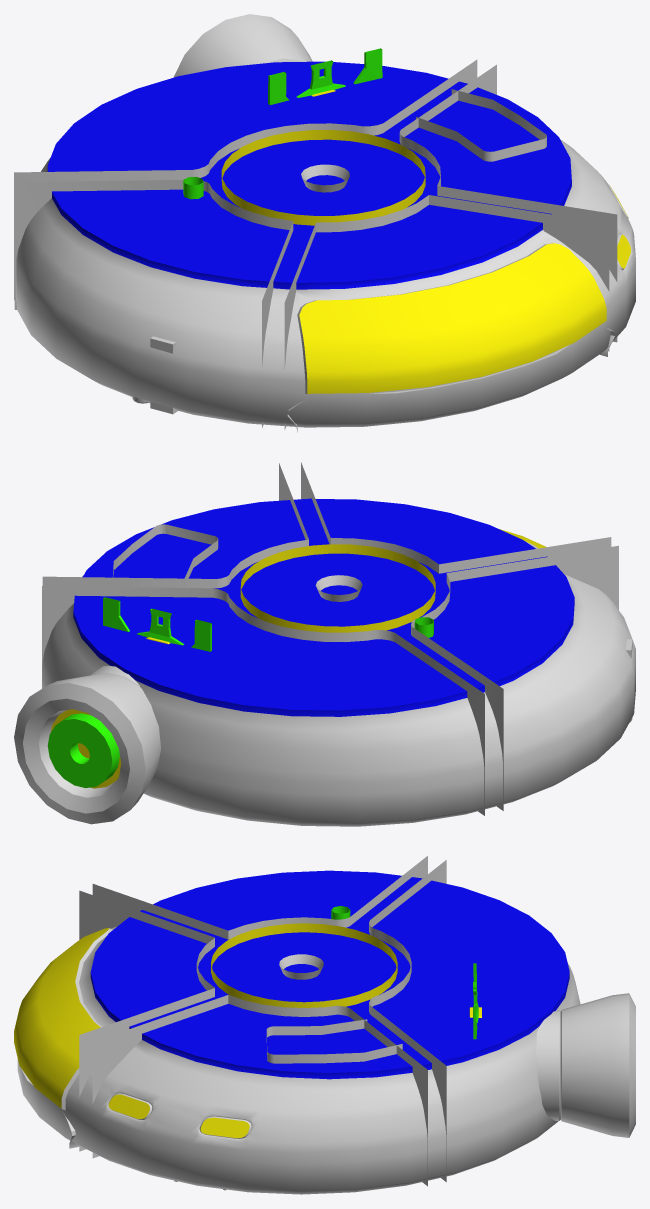
The model's file is Shuttle.FBX.
The picture shows the model from 3 angles, top to bottom: view 1: azimuth 30°, elevation 25°; view 2: azimuth 150°, elevation 25°; view 3: azimuth 270°, elevation 25°; orthographic projection. The views are drawn at different scales.
Parts seen in each view (by area): view 1: Shuttle, Walls, Engine, Reactor, Tube017; view 2: Shuttle, Walls, Engine, Reactor; view 3: Shuttle, Walls, Engine, Reactor.
Part boxes in pixels (x1=…): Shuttle: x1=16, y1=61, x2=635, y2=427; Walls: x1=14, y1=59, x2=617, y2=429; Engine: x1=173, y1=14, x2=382, y2=104; Reactor: x1=301, y1=164, x2=349, y2=192; Tube017: x1=287, y1=328, x2=614, y2=432; Shuttle: x1=42, y1=498, x2=635, y2=826; Walls: x1=42, y1=462, x2=618, y2=815; Engine: x1=14, y1=597, x2=211, y2=824; Reactor: x1=315, y1=575, x2=362, y2=601; Shuttle: x1=14, y1=870, x2=580, y2=1194; Walls: x1=79, y1=856, x2=446, y2=1186; Engine: x1=469, y1=963, x2=635, y2=1137; Reactor: x1=279, y1=954, x2=323, y2=979.
Size of the model in its own units: 794 by 870 by 222.
